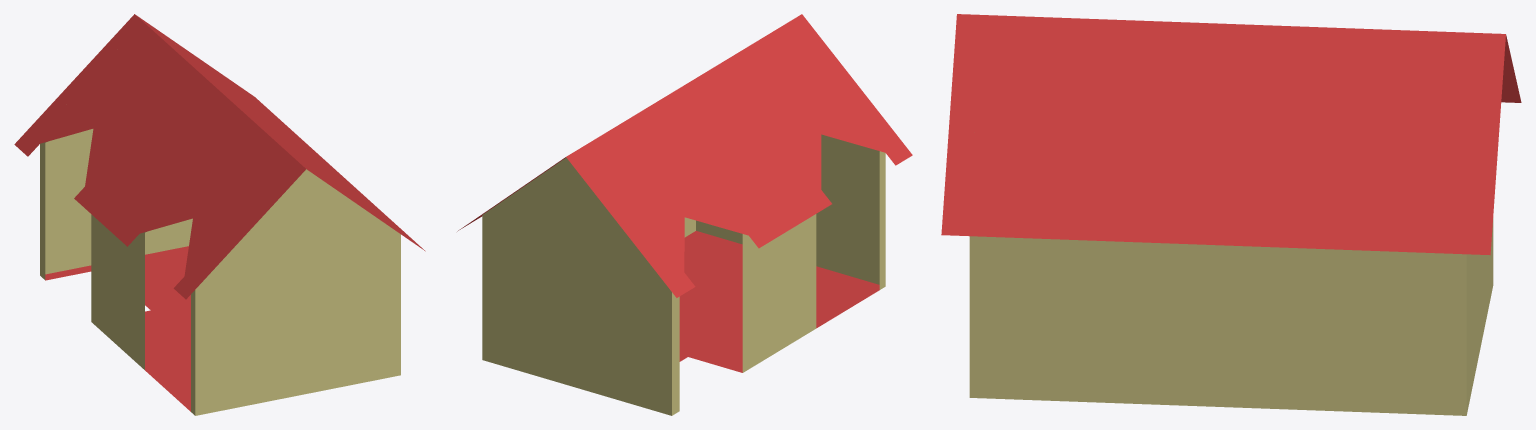
3 renders of one model, left to right at view 1: azimuth 30°, elevation 25°; view 2: azimuth 150°, elevation 25°; view 3: azimuth 270°, elevation 25°, orthographic. The views are drawn at different scales.
Size of the model in its own units: 11.65 by 16.6 by 10.04.
